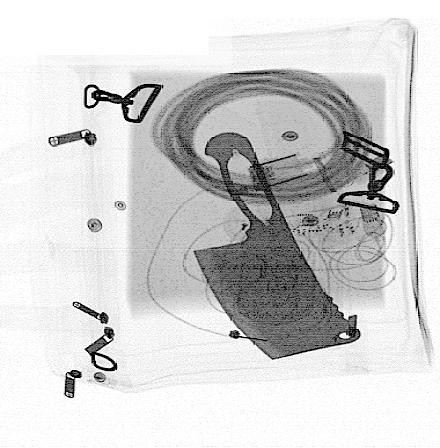Knife: (188, 129, 364, 362)
